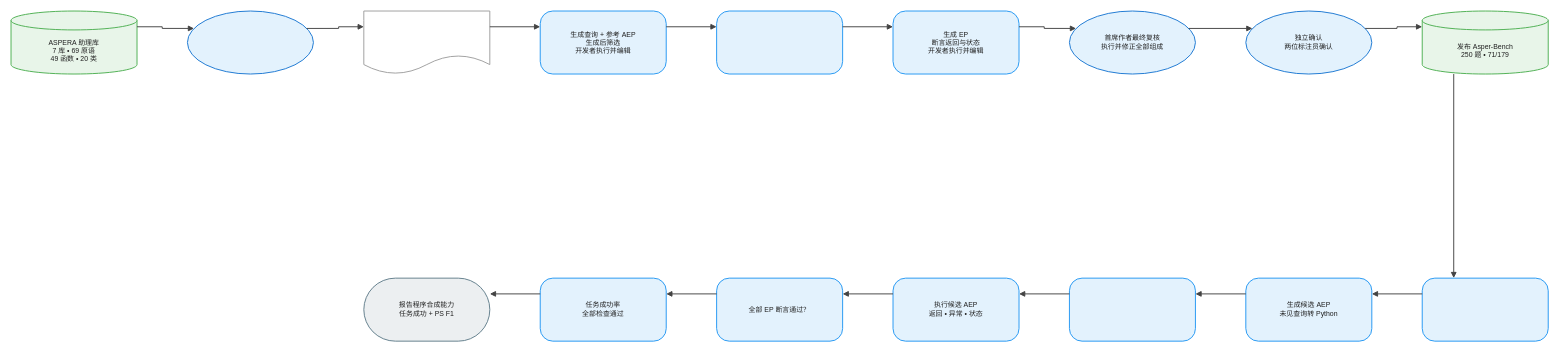
This 1560x353 diagram has some shape labels left out. The shapes that lost their labels are listed below. From the top down, each one's centre as x and y in pixels, then its label:
At point (250, 42): "开发者-LLM 查询历史 聚焦指令或人工查询".
At point (426, 42): "按程序类型提示 GPT-4o AEP • SIP • EP 每种程序各 5 个 ICE".
At point (779, 42): "生成 SIP 初始化动态状态 开发者执行并编辑".
At point (1132, 309): "运行参考 SIP 覆盖 AEP 各分支".
At point (1484, 309): "选择评测设置 CCK • PS".
